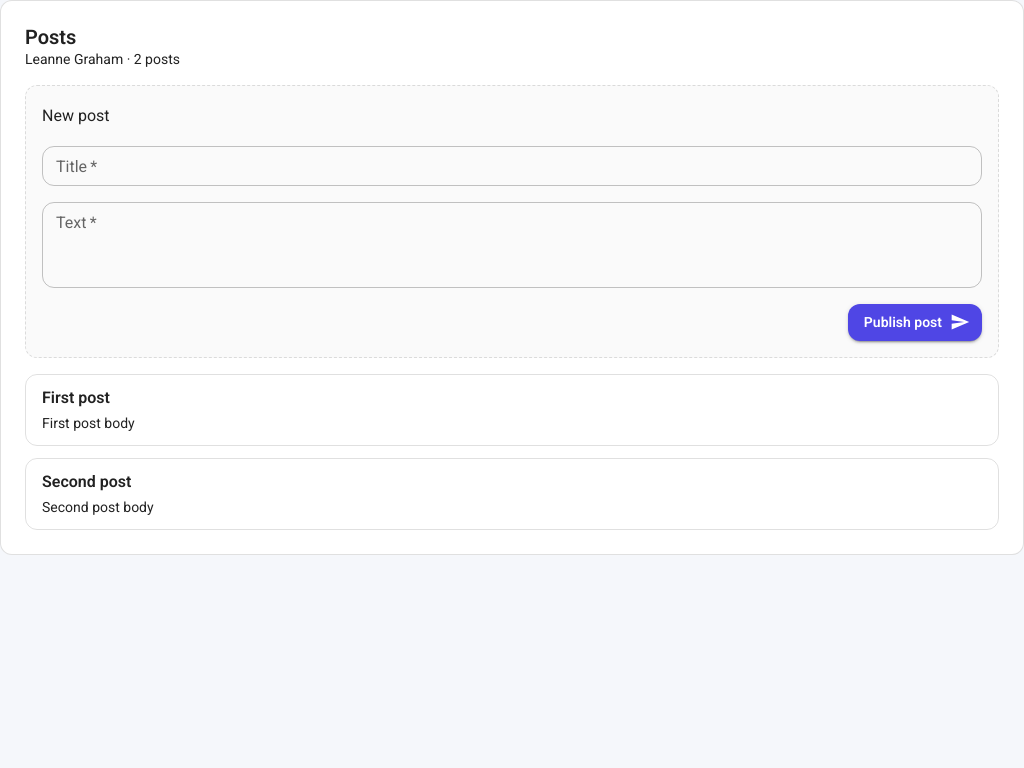
PostsPanel post creation › shows the created post first, confirms it and clears the form
The image size is (1024, 768).
Type "Brand new post" into the field with test id "new-post-title-input" at (512, 166), box [42,146,982,186]
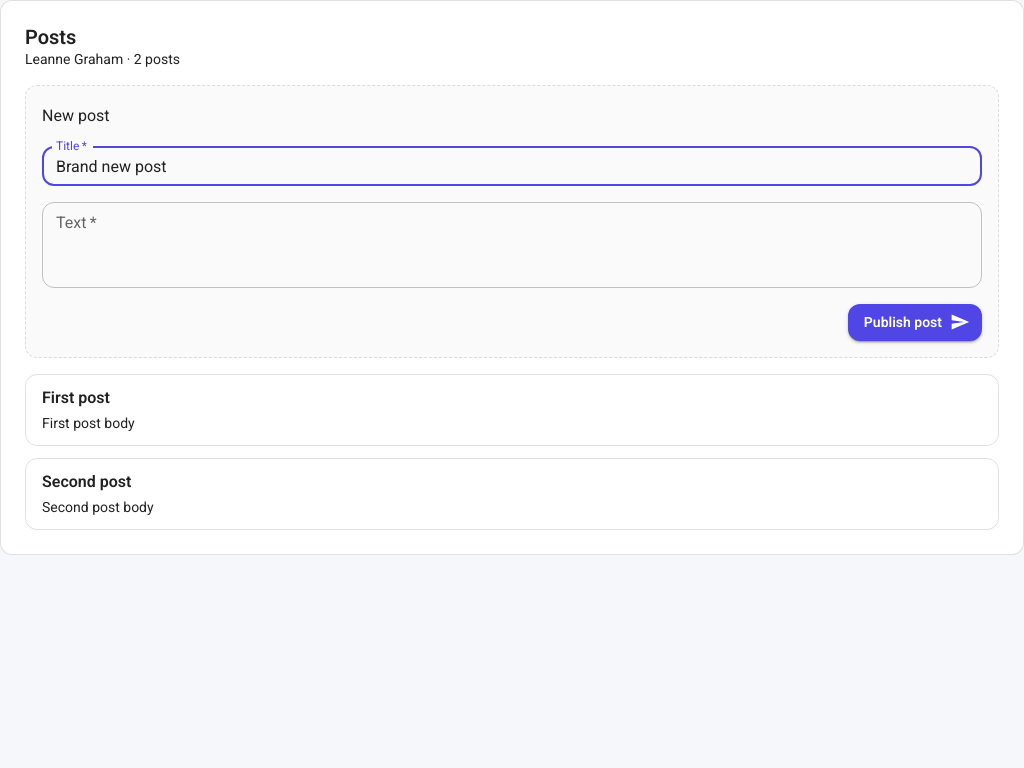
Type "Hello from the test" into the text box with test id "new-post-body-input" at (512, 245), box [56,210,968,280]
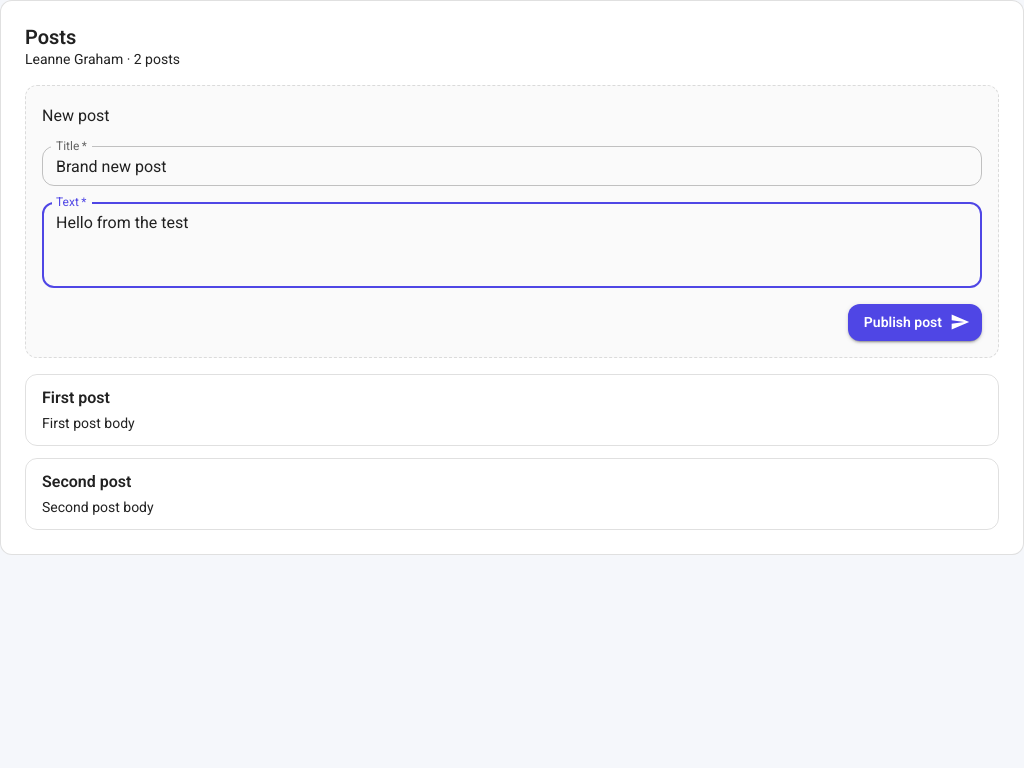
Click the button with test id "new-post-submit" at (915, 322), box [848,304,982,340]
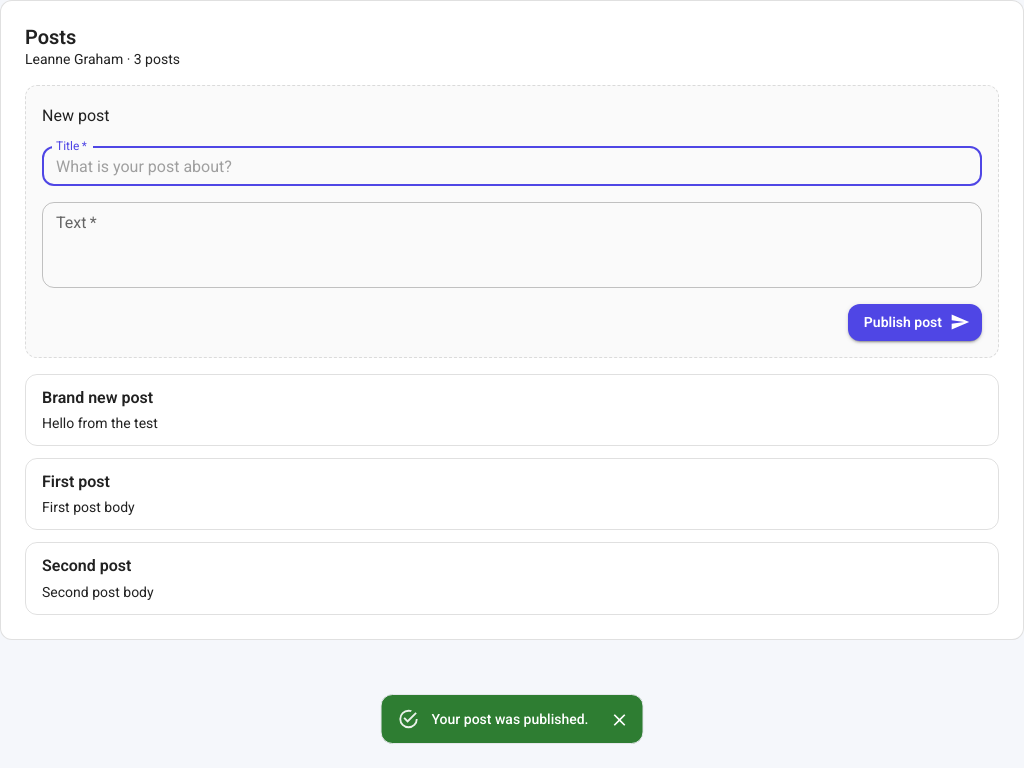
Expected: the message "Your post was published." is shown, [380,694,644,744]
Expected: the number of elements with test id "post-card" is 3, [25,374,999,446]; [25,458,999,530]; [25,542,999,615]
Expected: the element with test id "post-card" shows "Brand new post", [42,388,153,406]
